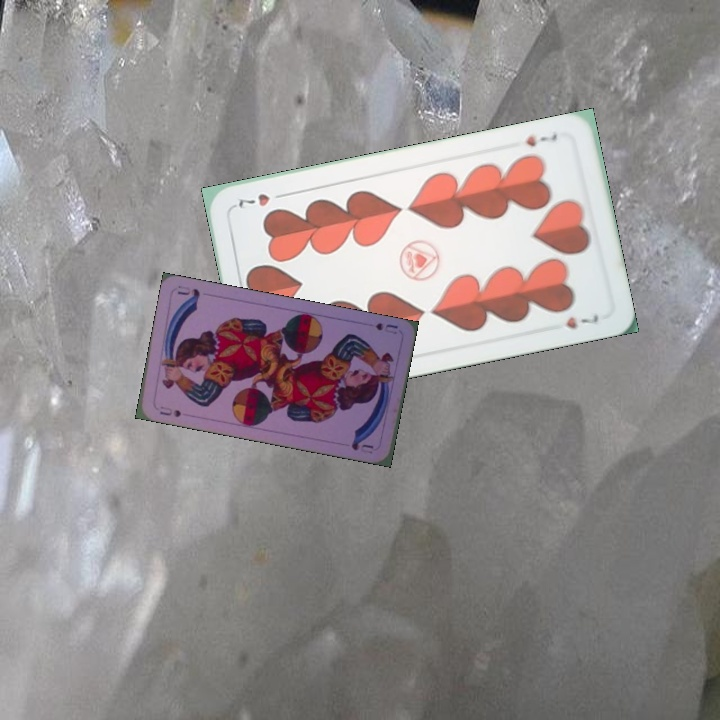H7: (522, 129, 560, 150)
SU: (372, 319, 400, 337), (156, 402, 184, 420)
